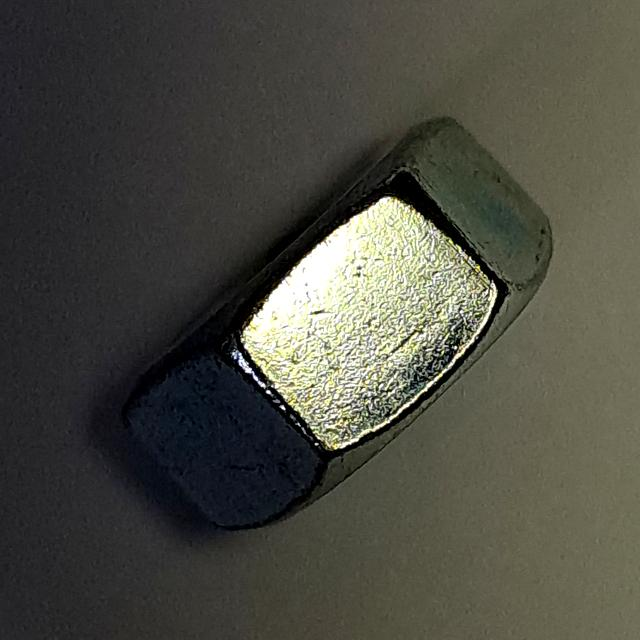Side_Excellent: (113, 107, 567, 541)
